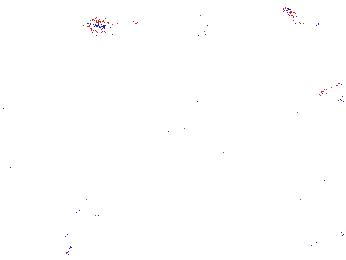X-ray fish: (212, 180, 240, 215)
glassfish: (146, 114, 254, 171), (63, 169, 121, 255)
red belly glassfish: (83, 18, 141, 36), (279, 2, 318, 28), (321, 86, 346, 107), (194, 14, 213, 37)
